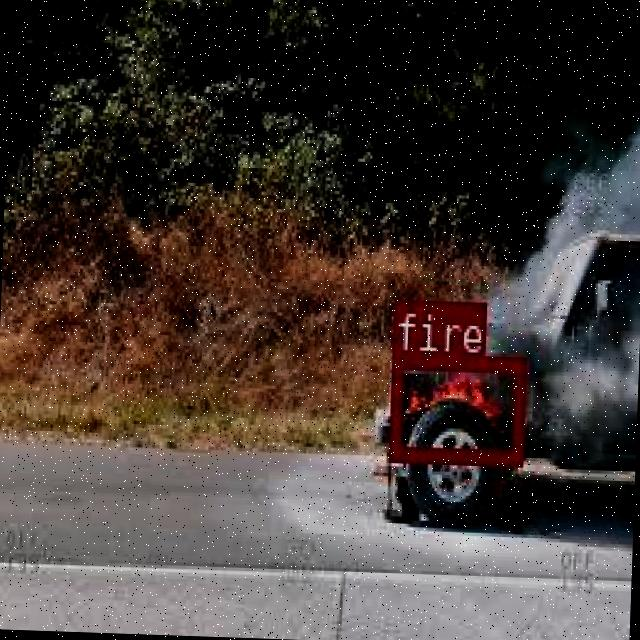fire: (386, 351, 524, 462)
